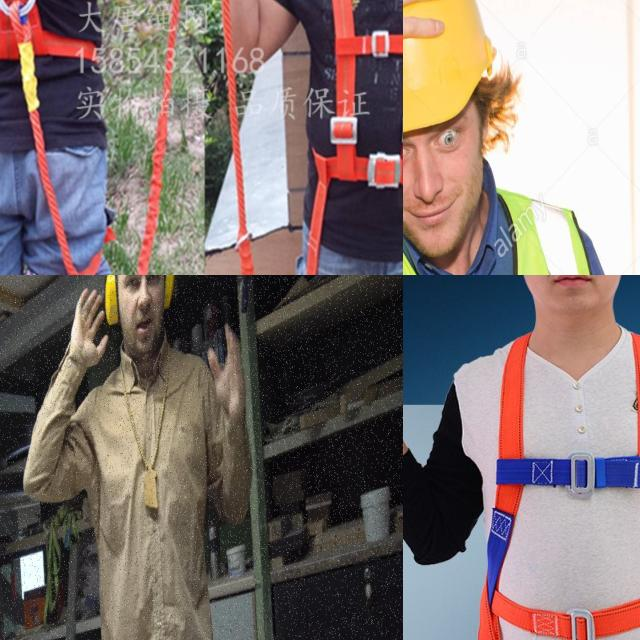Ear-protection: (98, 275, 127, 338), (159, 275, 183, 323)
Harness: (474, 317, 640, 640), (0, 0, 134, 267), (302, 0, 403, 275)
No_Glasses: (120, 275, 162, 297)
face_nomask: (403, 127, 494, 251)
head_helmet: (403, 0, 496, 129)
person: (403, 0, 640, 275)
vest: (403, 201, 600, 275)
